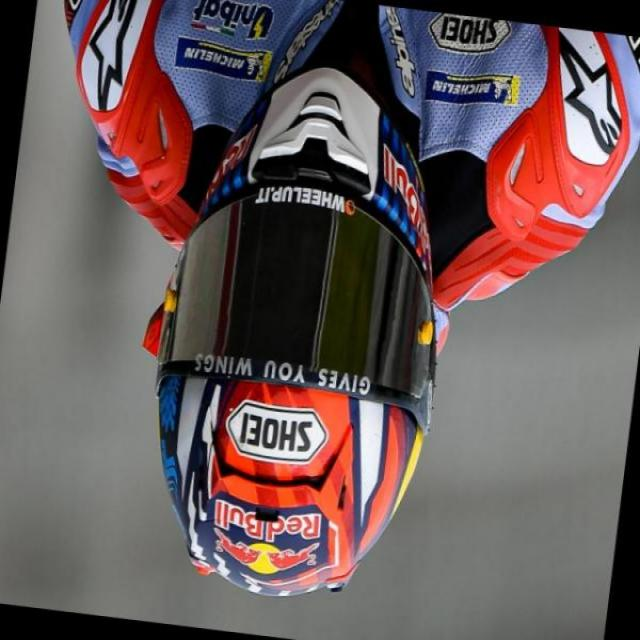Helmet: (171, 103, 453, 605)
